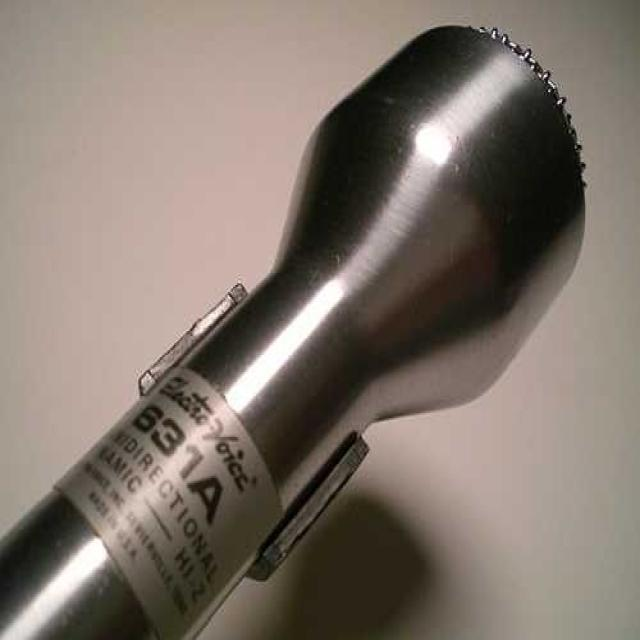microphone: (1, 27, 578, 633)
